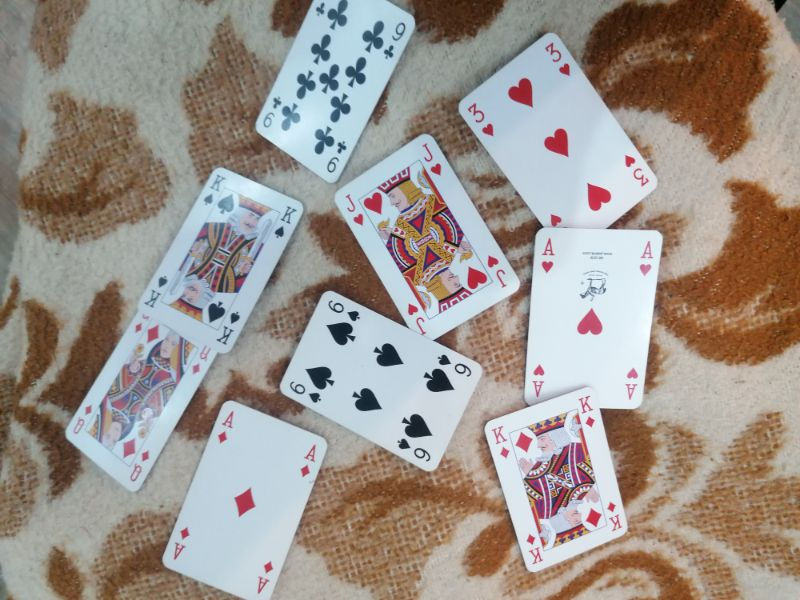3h: (462, 94, 501, 143), (619, 145, 655, 192), (540, 40, 580, 82)
6s: (390, 434, 438, 468), (281, 377, 327, 409), (432, 348, 475, 381), (325, 294, 364, 326)
9c: (379, 13, 413, 64), (319, 137, 354, 180), (255, 95, 287, 134)
Ad: (167, 518, 197, 571), (214, 400, 240, 451), (296, 435, 322, 482), (252, 553, 279, 597)
Ah: (523, 359, 553, 404), (537, 230, 560, 281), (619, 361, 645, 404), (637, 234, 660, 282)
Jh: (480, 249, 516, 294), (399, 298, 436, 340), (415, 138, 448, 182), (336, 189, 369, 229)
Kd: (598, 498, 632, 539), (573, 392, 603, 434), (485, 421, 515, 462), (522, 529, 551, 569)
Ks: (198, 165, 232, 210), (215, 306, 246, 351), (141, 271, 169, 316), (270, 200, 299, 243)
Qd: (124, 443, 154, 489), (67, 400, 97, 442), (190, 339, 216, 383)
